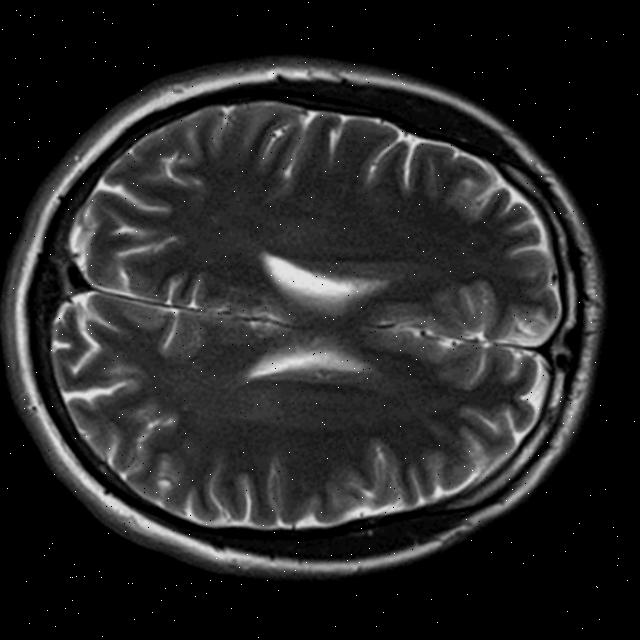NoTumor: (0, 18, 639, 618)
